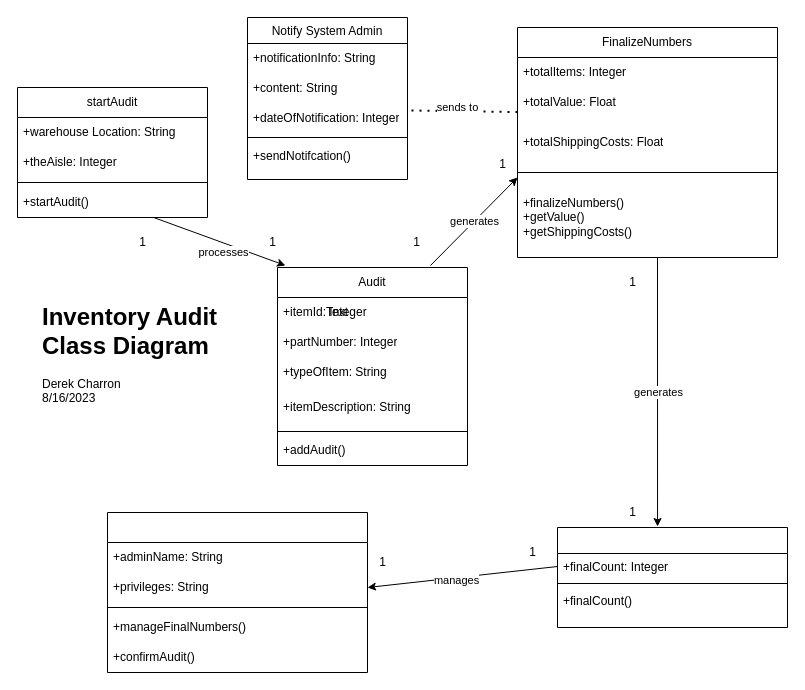
This 805x690 diagram has some shape labels left out. Each missing label, with the box of its shape:
FinalCheck: (556, 526, 788, 628)
System Admin: (106, 512, 368, 672)
